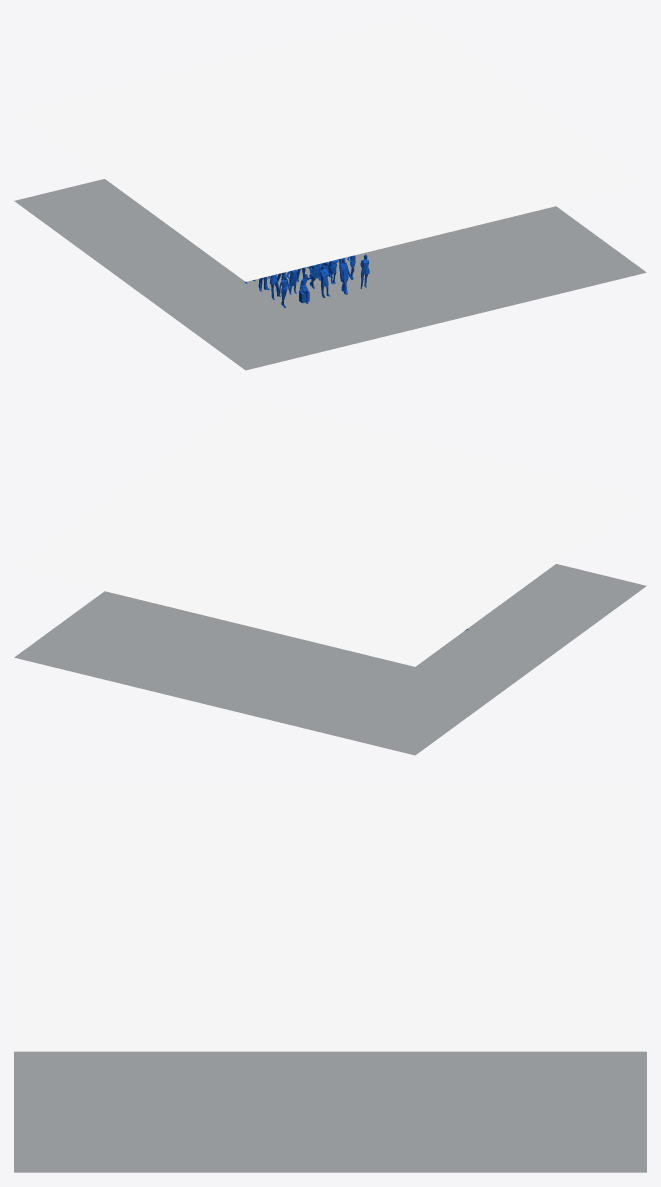
File: people.glb
The picture shows the model from 3 angles, top to bottom: view 1: azimuth 30°, elevation 25°; view 2: azimuth 150°, elevation 25°; view 3: azimuth 270°, elevation 25°; orthographic projection. The views are drawn at different scales.
Visible parts, largest first — view 1: Plane.001, Plane; view 2: Plane.001, Plane; view 3: Plane.001, Plane.
Part boxes in pixels (bbox=[...]): Plane.001: bbox=[14, 14, 646, 281]; Plane: bbox=[14, 179, 646, 370]; Plane.001: bbox=[14, 399, 646, 666]; Plane: bbox=[14, 564, 646, 755]; Plane.001: bbox=[14, 784, 646, 1051]; Plane: bbox=[14, 1051, 646, 1172].
Size of the model in its own units: 20.29 by 4.29 by 20.29.
3 materials, 1 textured.
